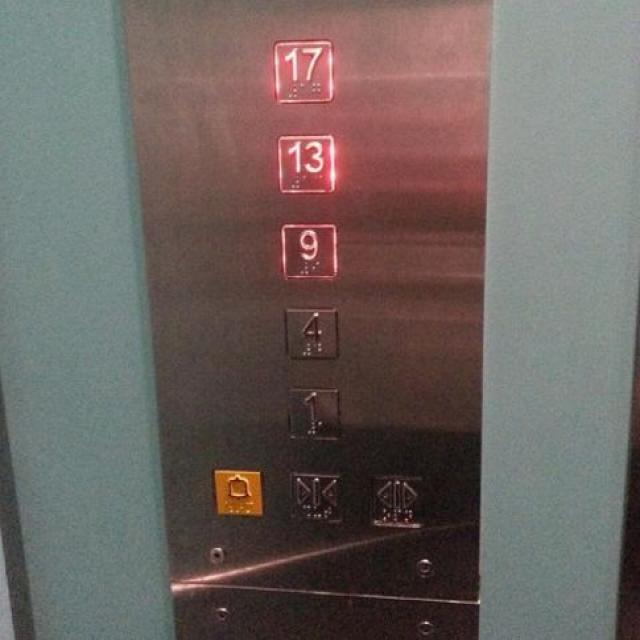1: (280, 380, 340, 443)
13: (273, 129, 337, 195)
17: (268, 35, 336, 105)
4: (280, 300, 340, 363)
9: (277, 218, 341, 282)
alarm: (209, 464, 265, 519)
close: (284, 465, 344, 528)
open: (364, 468, 425, 531)
